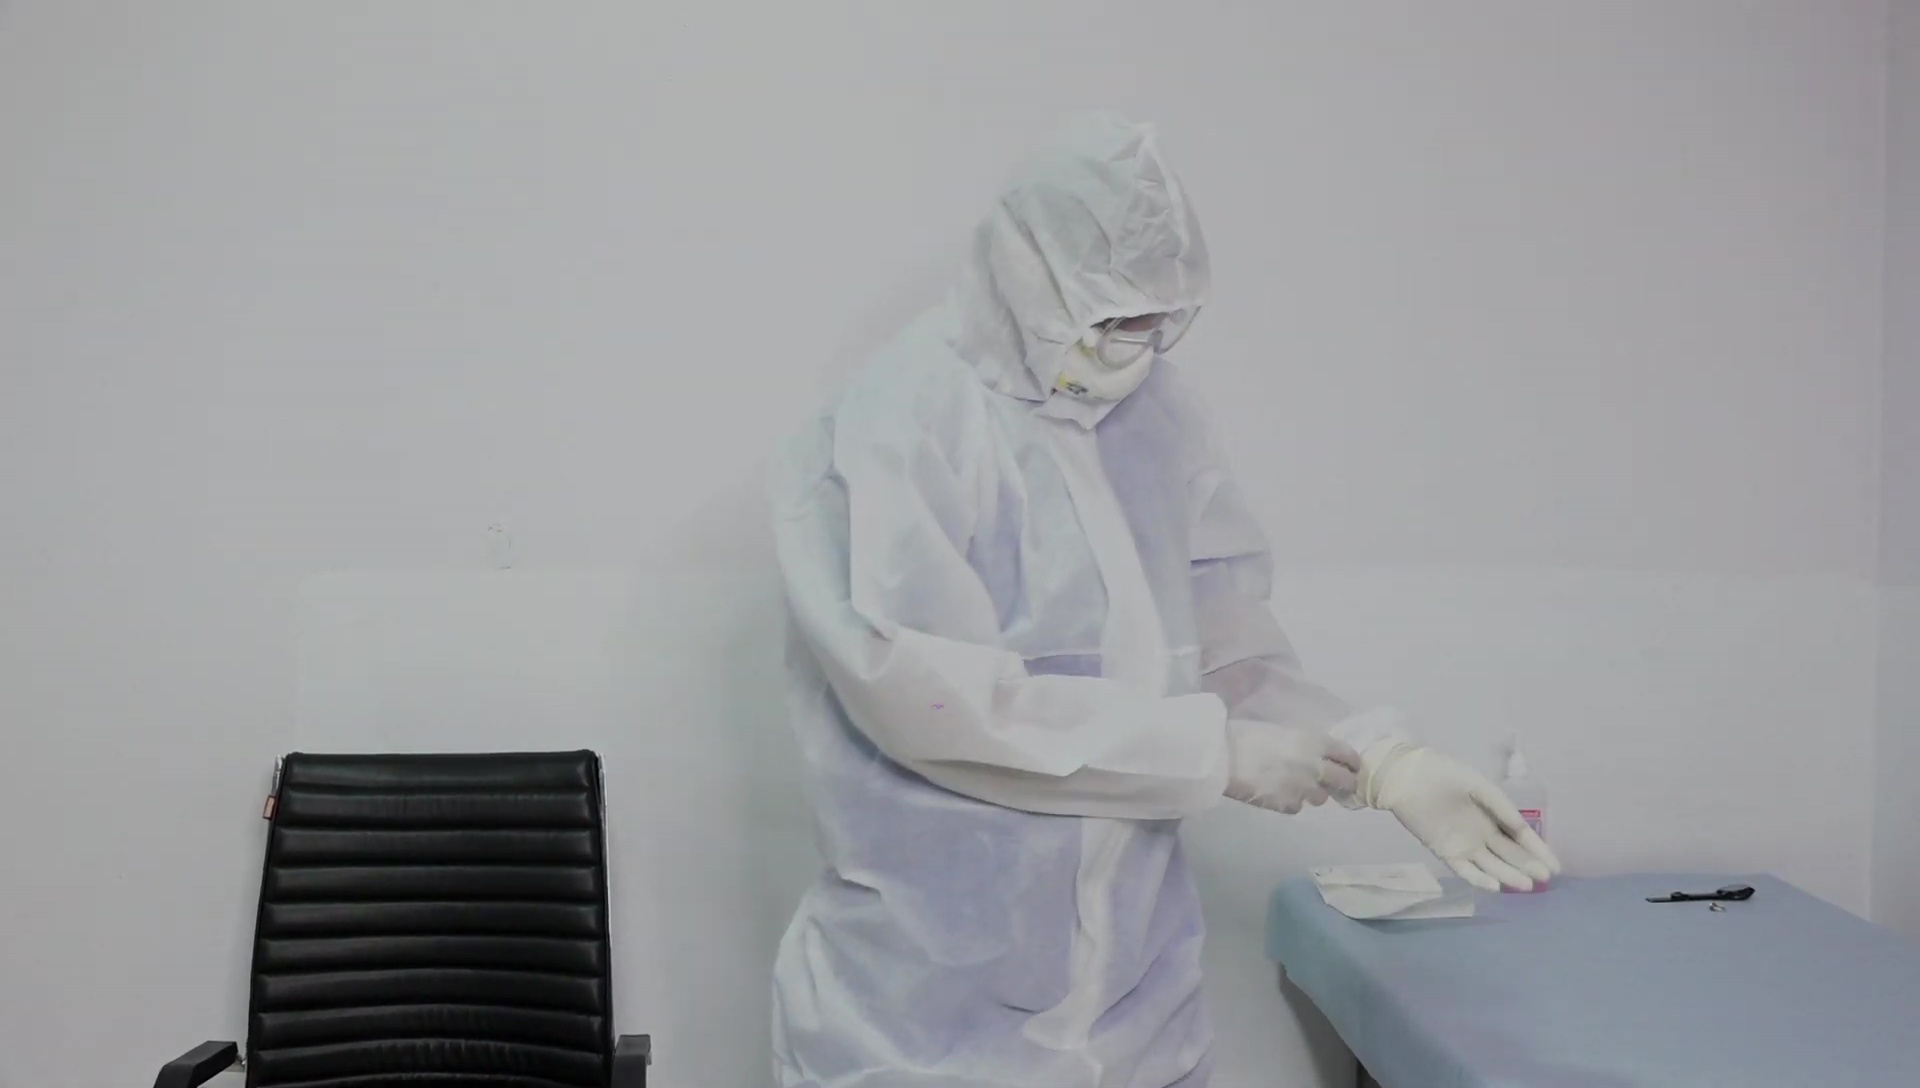Coverall: (769, 113, 1371, 1086)
Gloves: (1373, 746, 1565, 895), (1226, 713, 1365, 817)
Goggles: (1084, 296, 1206, 372)
with_mask: (1055, 332, 1156, 407)
